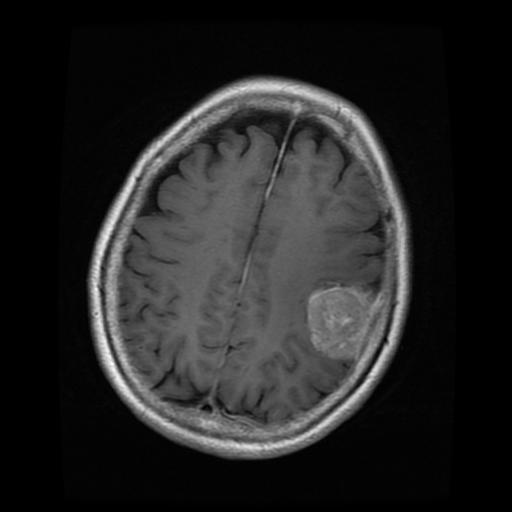Menigiomia_tumour: (305, 283, 371, 358)
